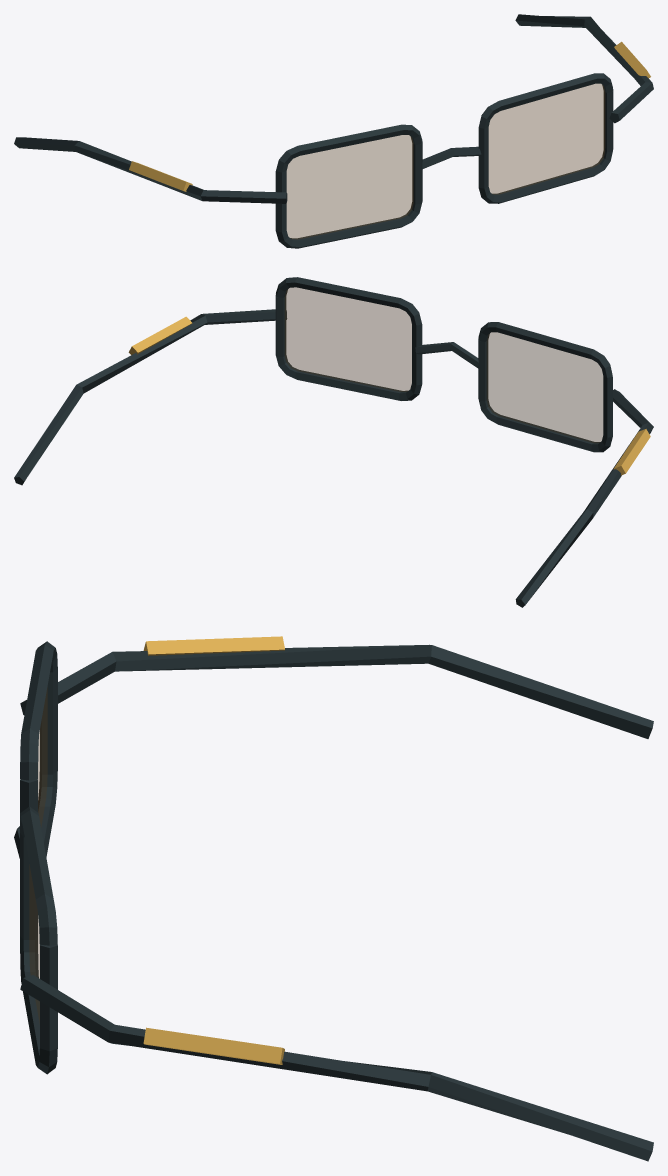
The model's file is acc-matchday-sport.glb.
The picture shows the model from 3 angles, top to bottom: view 1: azimuth 30°, elevation 25°; view 2: azimuth 150°, elevation 25°; view 3: azimuth 270°, elevation 25°; orthographic projection. The views are drawn at different scales.
Visible parts, largest first — view 1: acc-matchday-sport_ref2_acc-matchday-sport__head_front_mesh, acc-matchday-sport_ref2_acc-matchday-sport__head_side_mesh; view 2: acc-matchday-sport_ref2_acc-matchday-sport__head_front_mesh, acc-matchday-sport_ref2_acc-matchday-sport__head_side_mesh; view 3: acc-matchday-sport_ref2_acc-matchday-sport__head_side_mesh, acc-matchday-sport_ref2_acc-matchday-sport__head_front_mesh.
Part boxes in pixels (x1,y1,x2,y2): acc-matchday-sport_ref2_acc-matchday-sport__head_front_mesh: (275, 73, 613, 248); acc-matchday-sport_ref2_acc-matchday-sport__head_side_mesh: (14, 14, 653, 203); acc-matchday-sport_ref2_acc-matchday-sport__head_front_mesh: (275, 277, 612, 452); acc-matchday-sport_ref2_acc-matchday-sport__head_side_mesh: (14, 309, 653, 607); acc-matchday-sport_ref2_acc-matchday-sport__head_side_mesh: (20, 636, 653, 1161); acc-matchday-sport_ref2_acc-matchday-sport__head_front_mesh: (14, 641, 57, 1074).
Bounding box in the file's own units: 0.4913 × 0.0951 × 0.3045.
